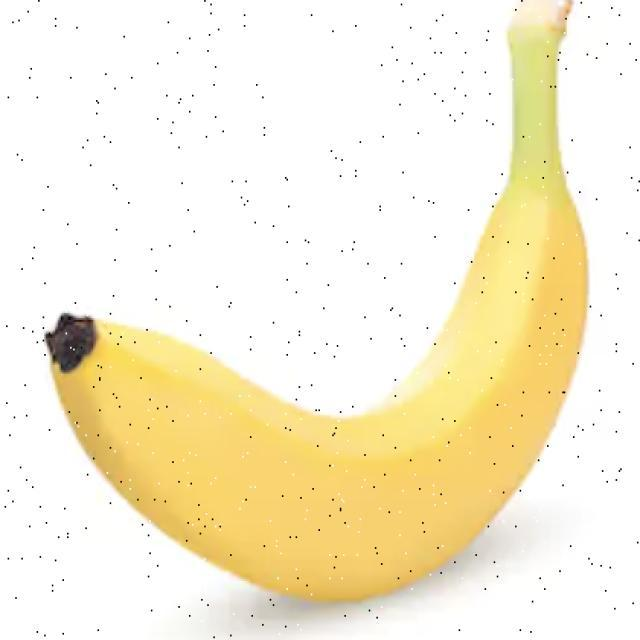Banana: (44, 0, 589, 603)
